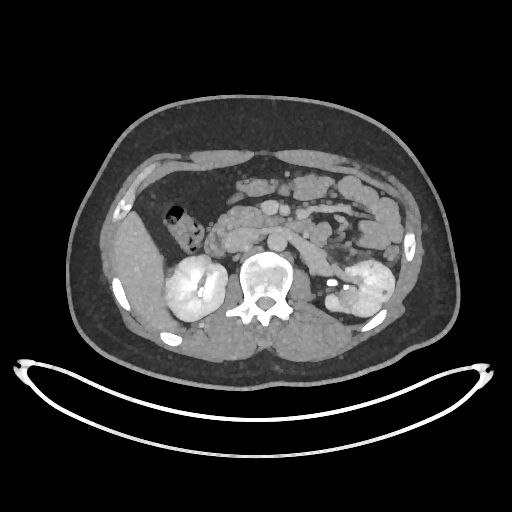Lesion: (332, 283, 362, 313)
